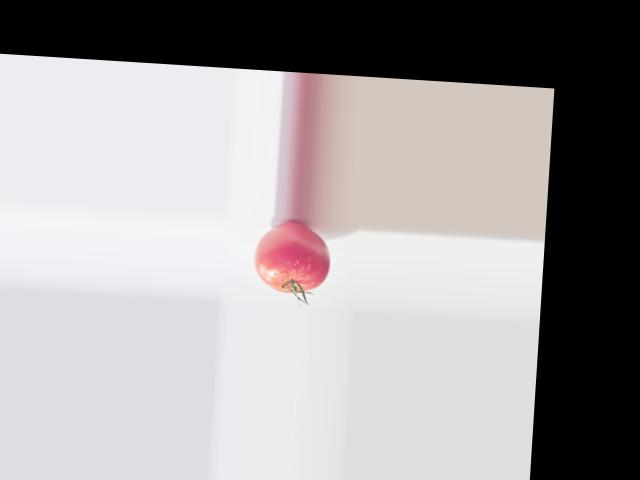tomato: (251, 219, 332, 294)
